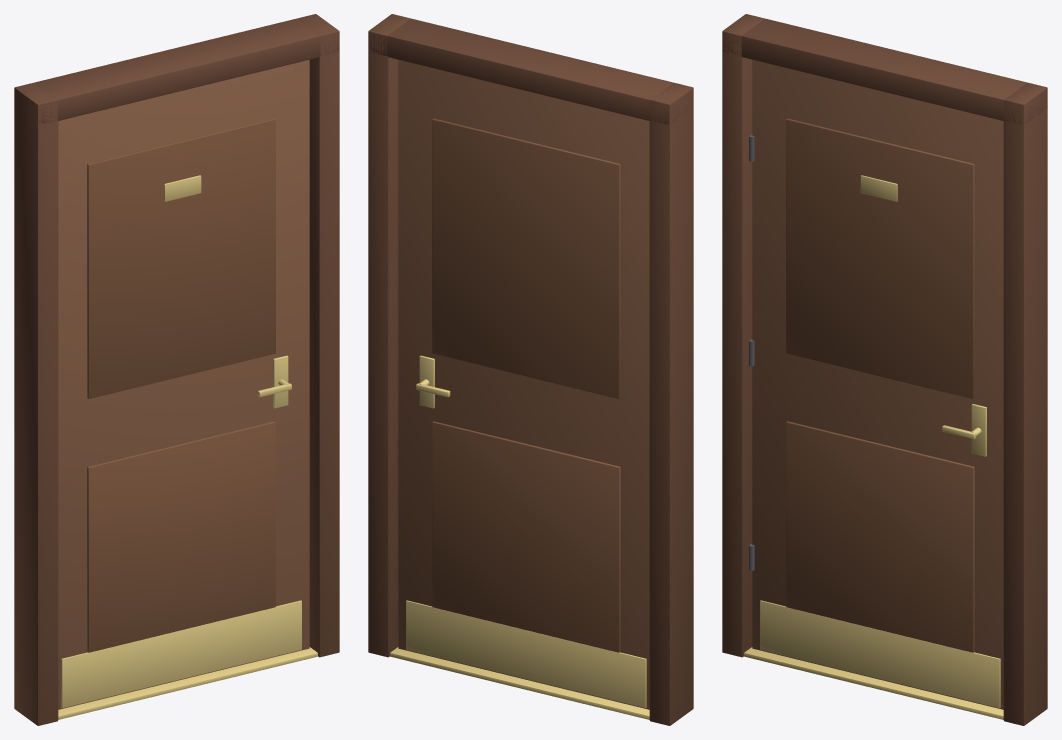
The model's file is hotel_door.glb.
3 views of the same model, side by side, from view 1: azimuth 30°, elevation 25°; view 2: azimuth 150°, elevation 25°; view 3: azimuth 330°, elevation 25° (orthographic).
Parts seen in each view (by area): view 1: DoorLeaf, DoorFrame; view 2: DoorLeaf, DoorFrame; view 3: DoorLeaf, DoorFrame.
Boxes of the visible parts, x1,y1,x2,y2 form: DoorLeaf: [58, 60, 309, 709]; DoorFrame: [14, 14, 339, 725]; DoorLeaf: [398, 60, 649, 709]; DoorFrame: [368, 14, 693, 725]; DoorLeaf: [749, 60, 1003, 709]; DoorFrame: [722, 14, 1047, 725].
Size of the model in its own units: 1.16 by 2.28 by 0.172.
